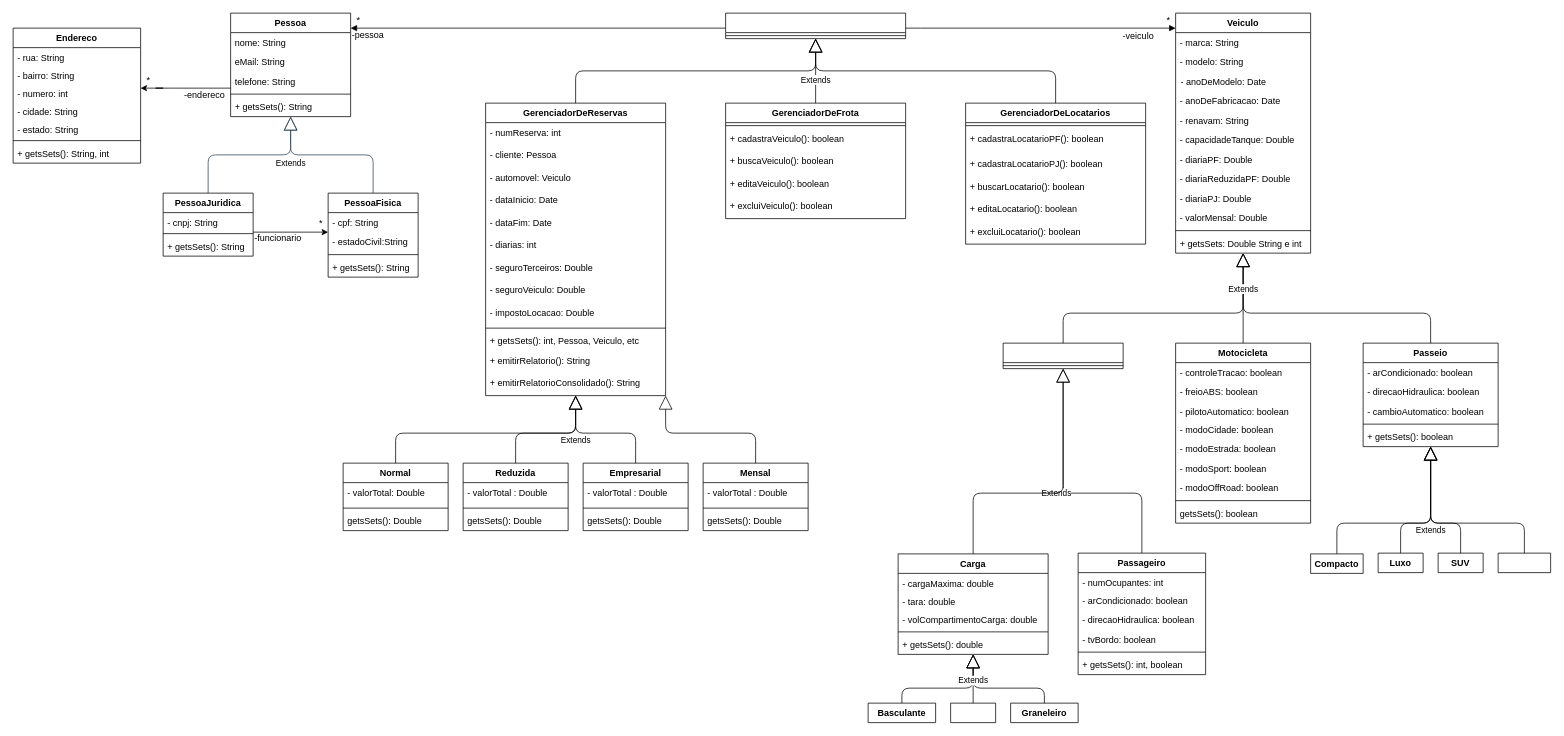
The diagram is 1564 pixels wide and 736 high, and some of its shapes have lost their labels. Each missing label, with the centre of its shape:
Bau: point 973,712
Gerenciador: point 815,25
Sedan: point 1524,562
Utilitario: point 1062,355
